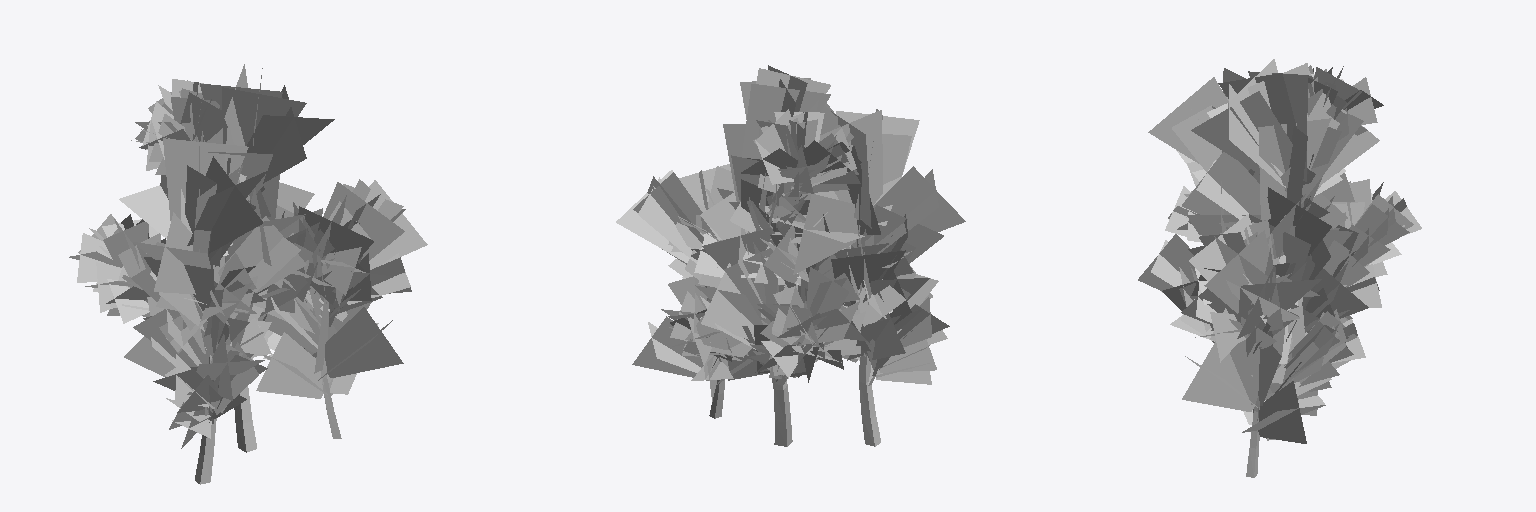
The model's file is tree04.obj.
The picture shows the model from 3 angles: view 1: azimuth 30°, elevation 25°; view 2: azimuth 150°, elevation 25°; view 3: azimuth 270°, elevation 25°; orthographic projection.
Visible parts, largest first — view 1: tree04; view 2: tree04; view 3: tree04.
Part boxes in pixels (left/top/right/bottom): tree04: left=69, top=64, right=427, bottom=484; tree04: left=616, top=65, right=965, bottom=446; tree04: left=1138, top=59, right=1421, bottom=477.
Size of the model in its own units: 5.14 by 6.11 by 4.22.